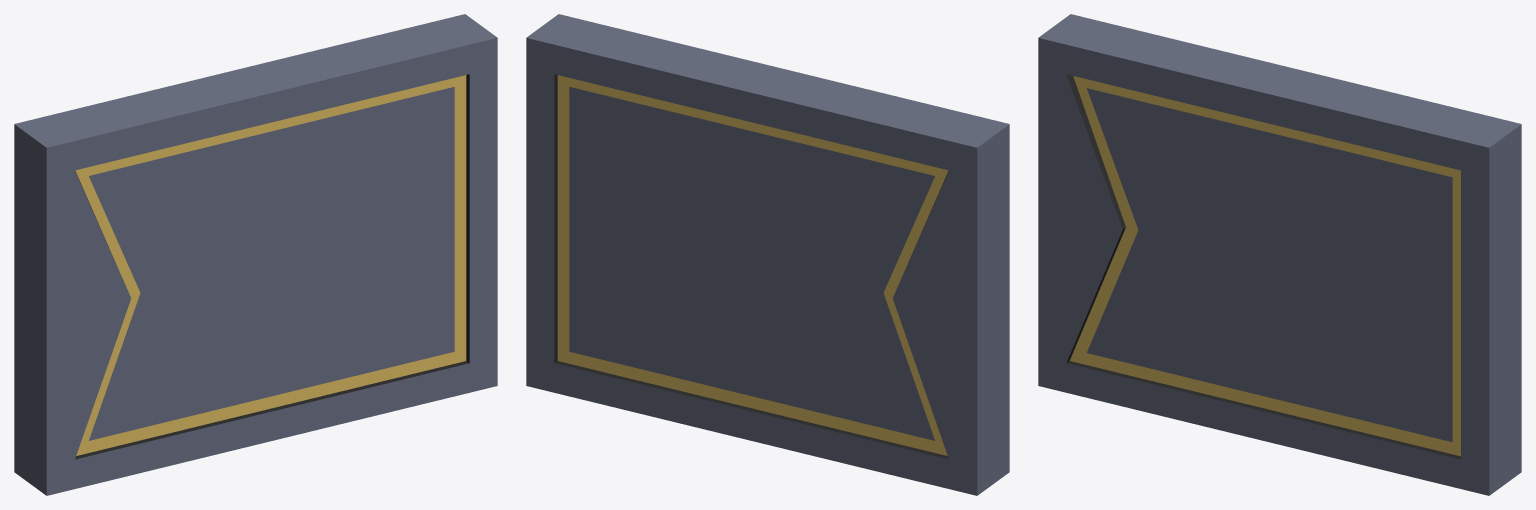
File: Door.fbx
3 renders of one model, left to right at view 1: azimuth 30°, elevation 25°; view 2: azimuth 150°, elevation 25°; view 3: azimuth 330°, elevation 25°, orthographic.
Parts seen in each view (by area): view 1: Door; view 2: Door; view 3: Door.
Part boxes in pixels (box(x1,y1,x2,y2)): Door: box(14, 14, 497, 495); Door: box(526, 14, 1009, 495); Door: box(1038, 14, 1521, 495).
Size of the model in its own units: 800 by 590 by 100.
